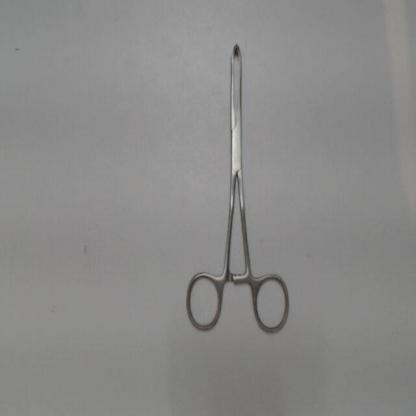Allis Tissue Forceps: (181, 29, 299, 339)
